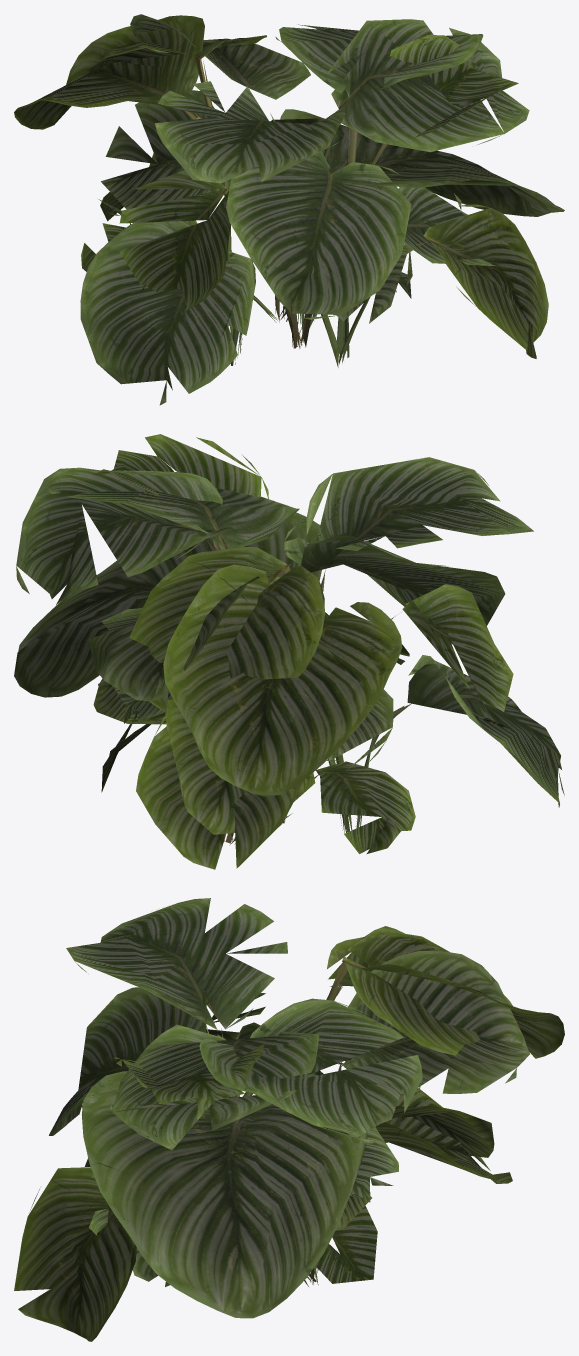
Rendered from calathea_orbifolia_01.glb.
The picture shows the model from 3 angles, top to bottom: view 1: azimuth 30°, elevation 25°; view 2: azimuth 150°, elevation 25°; view 3: azimuth 270°, elevation 25°; orthographic projection. The views are drawn at different scales.
Size of the model in its own units: 0.8633 by 0.5 by 0.8297.
1 material, 1 textured.
